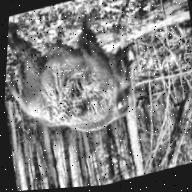boar: (2, 0, 155, 153)
